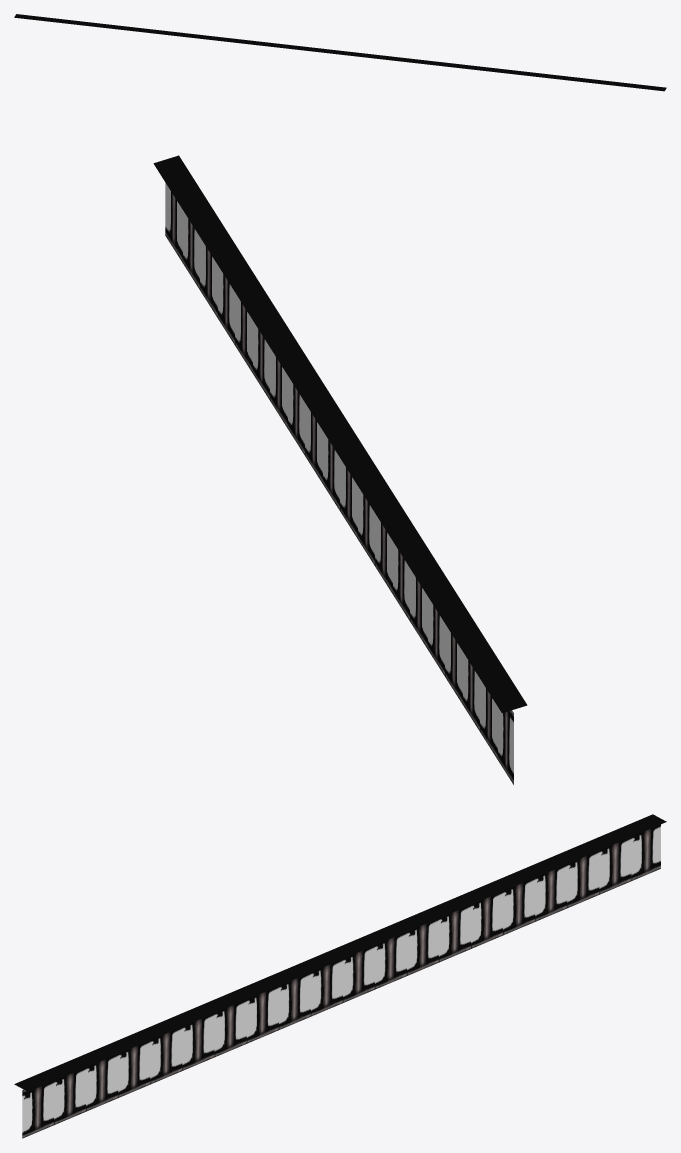
Rendered from GeländerSchräg_938.glb.
3 views of the same model, one above another, from view 1: azimuth 30°, elevation 25°; view 2: azimuth 150°, elevation 25°; view 3: azimuth 270°, elevation 25° (orthographic). The views are drawn at different scales.
Visible parts, largest first — view 1: pPlaneShape47; view 2: pPlaneShape46, pPlaneShape47; view 3: pPlaneShape46, pPlaneShape47.
Part boxes in pixels (bbox=[...]): pPlaneShape47: bbox=[14, 14, 666, 91]; pPlaneShape46: bbox=[165, 183, 513, 784]; pPlaneShape47: bbox=[153, 155, 527, 713]; pPlaneShape46: bbox=[22, 824, 660, 1138]; pPlaneShape47: bbox=[14, 814, 666, 1091].
Bounding box in the file's own units: 1.02 × 0.0898 × 1.02.
2 materials, 1 textured.
